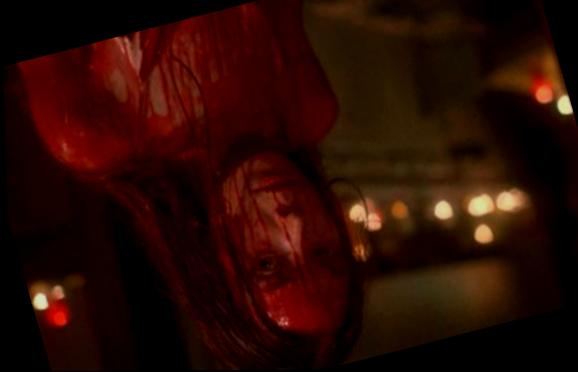Fire: (16, 0, 336, 179), (225, 157, 348, 335)
